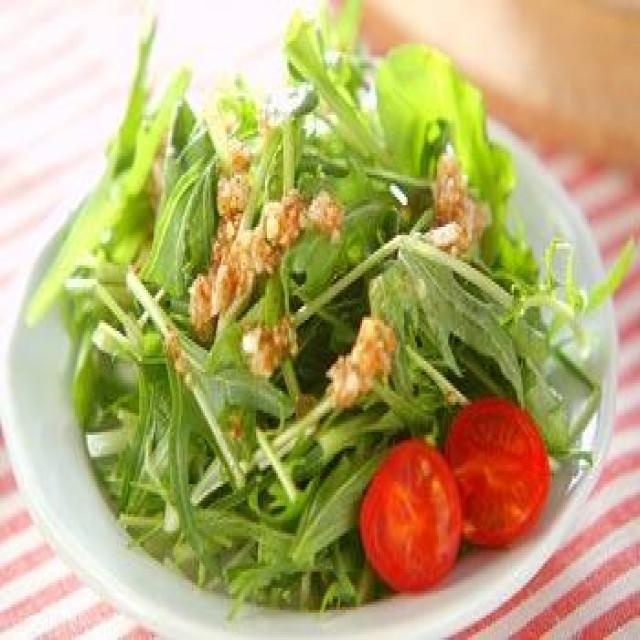Green Salad: (88, 40, 579, 577)
